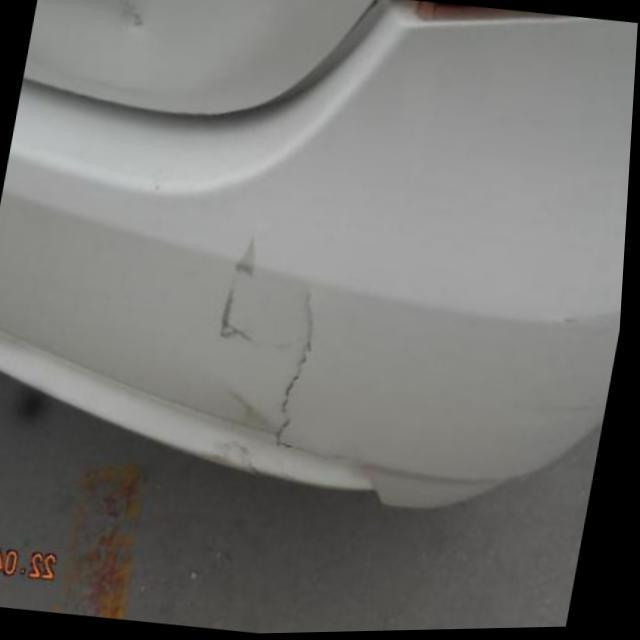crack: (266, 281, 331, 445), (215, 236, 262, 351)
scratch: (204, 385, 276, 477), (108, 0, 149, 35)
